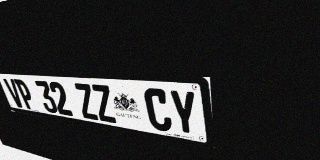2: (48, 81, 73, 116)
3: (34, 80, 59, 114)
C: (143, 88, 173, 133)
P: (13, 79, 37, 110)
V: (3, 78, 26, 108)
Y: (168, 89, 199, 137)
Z: (90, 84, 118, 123), (73, 83, 100, 121)
